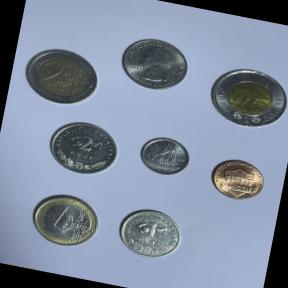1 Euro: (23, 186, 107, 254)
2 Euro: (16, 39, 107, 114)
Canda-10cent-: (134, 130, 196, 183)
Canda-2Dollar-: (199, 58, 288, 138)
Croatia-2Kune-: (39, 112, 125, 184)
US-1cent-: (204, 152, 272, 207)
US-25cent-: (112, 30, 196, 99)
